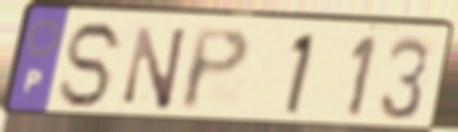1: (281, 30, 318, 117), (344, 33, 380, 119)
3: (380, 32, 431, 124)
N: (120, 23, 191, 113)
P: (178, 26, 253, 115)
S: (55, 19, 129, 112)
